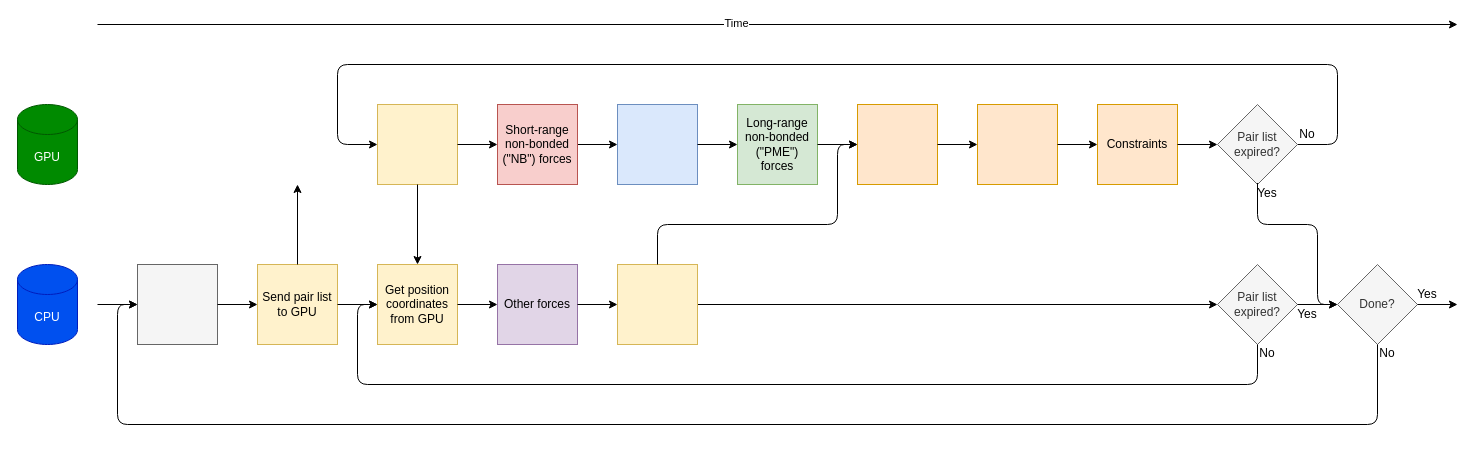
Image size: 1483x450. Some labels were removed from this diagram. The centre of each missing label's shape, as x and y in pixels:
"Bonded forces" belongs at (x=657, y=144).
"Pair search" belongs at (x=177, y=304).
"Reduce all forces" belongs at (x=897, y=144).
"Send other forces to GPU" belongs at (x=657, y=304).
"Send position coordinates to CPU" belongs at (x=417, y=144).
"Update" belongs at (x=1017, y=144).
